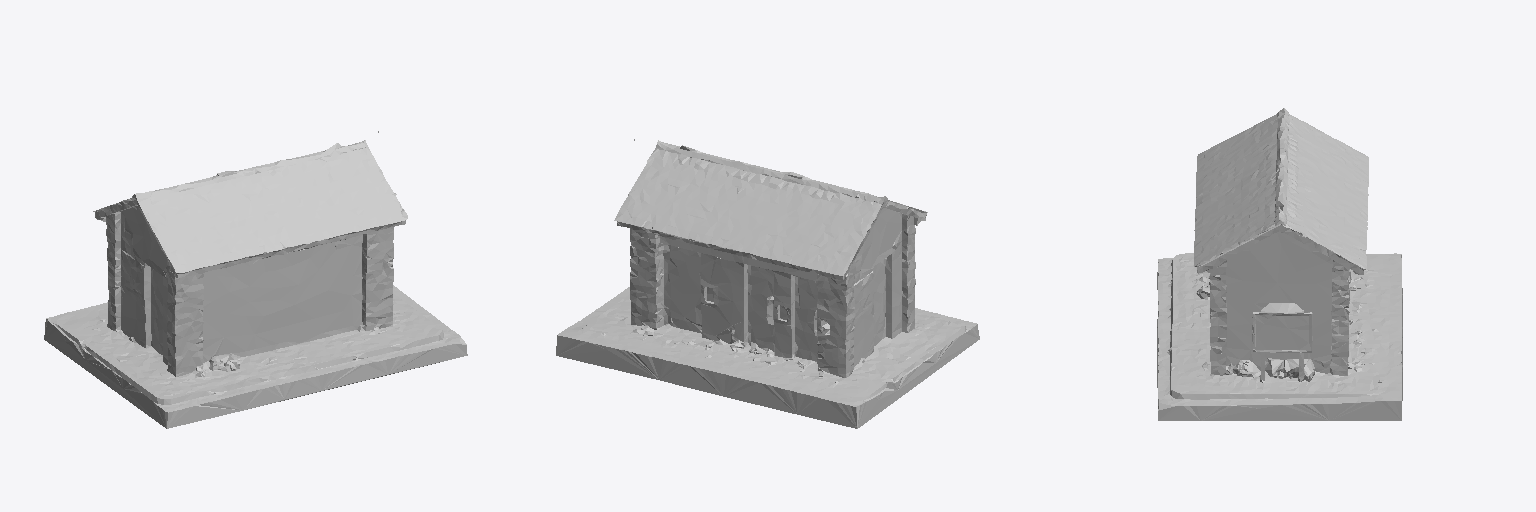
File: public_toilet_sim.obj
3 views of the same model, side by side, from view 1: azimuth 30°, elevation 25°; view 2: azimuth 150°, elevation 25°; view 3: azimuth 270°, elevation 25° (orthographic).
Parts seen in each view (by area): view 1: loos; view 2: loos; view 3: loos.
Boxes of the visible parts, x1,y1,x2,y2 form: loos: [44, 131, 467, 428]; loos: [556, 139, 979, 428]; loos: [1157, 108, 1402, 420].
Size of the model in its own units: 26.55 by 15.46 by 18.73.